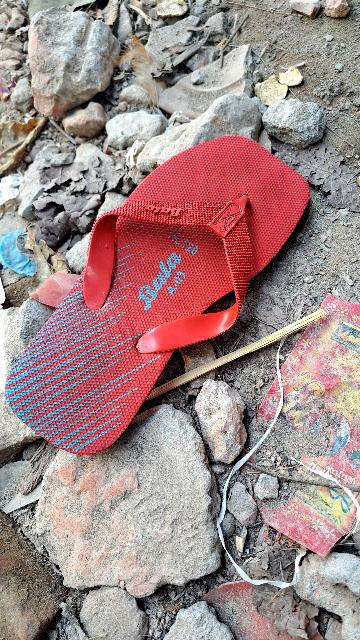sandal: (6, 104, 335, 457)
